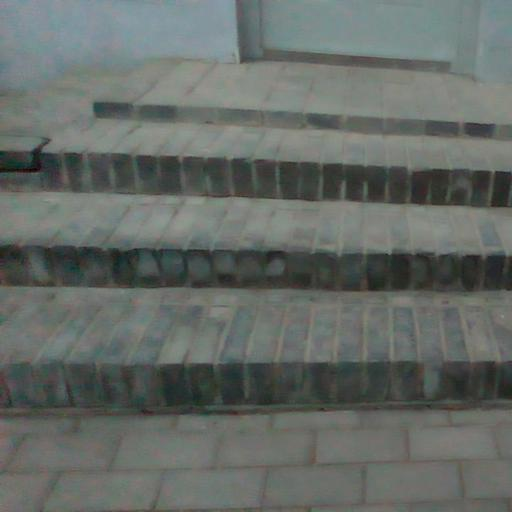stairs: (0, 62, 511, 406), (0, 287, 511, 407), (0, 193, 511, 290)
